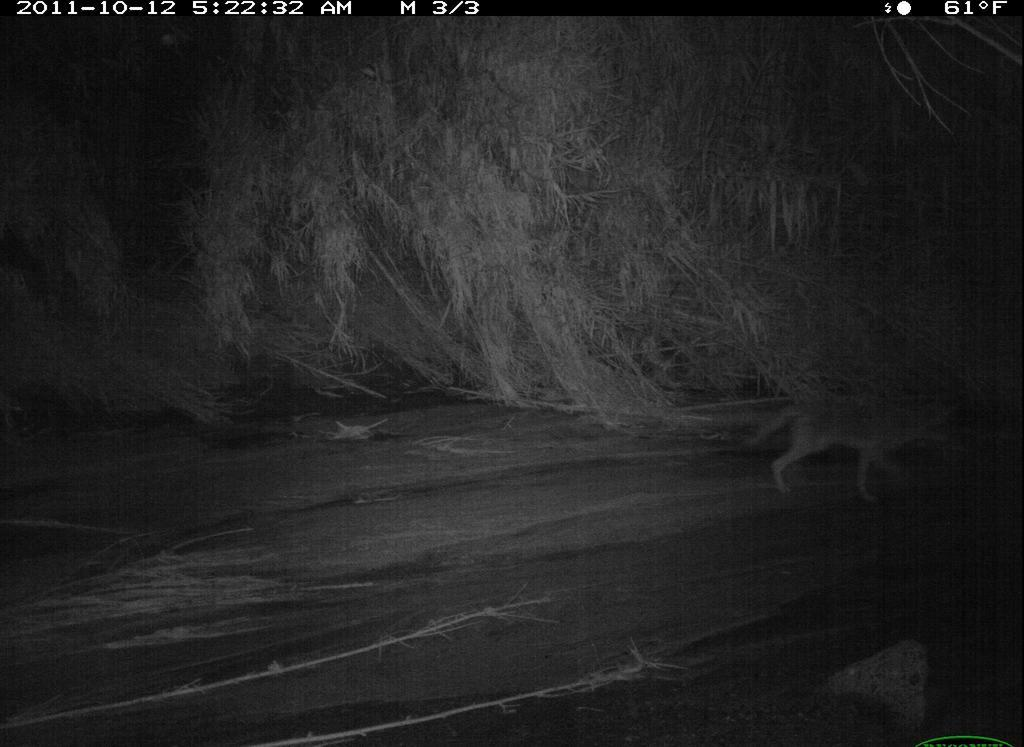coyote: (733, 376, 981, 519)
